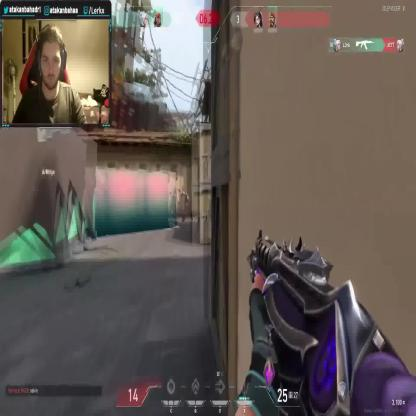enemy: (180, 189, 192, 221)
enemy_head: (182, 187, 188, 195)
